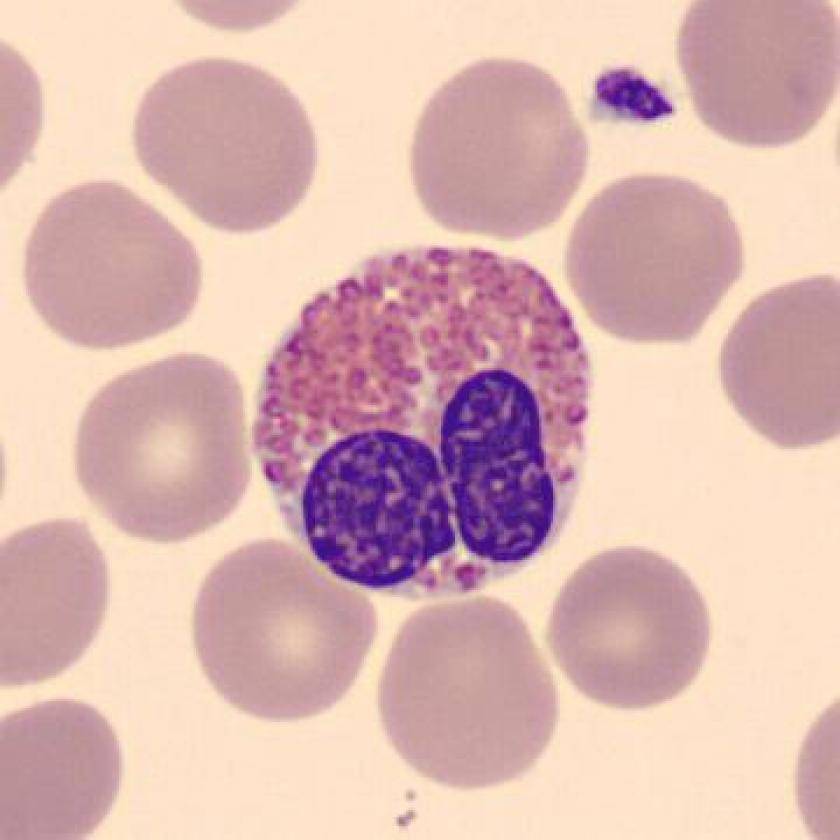eosinophil: (241, 235, 610, 612)
